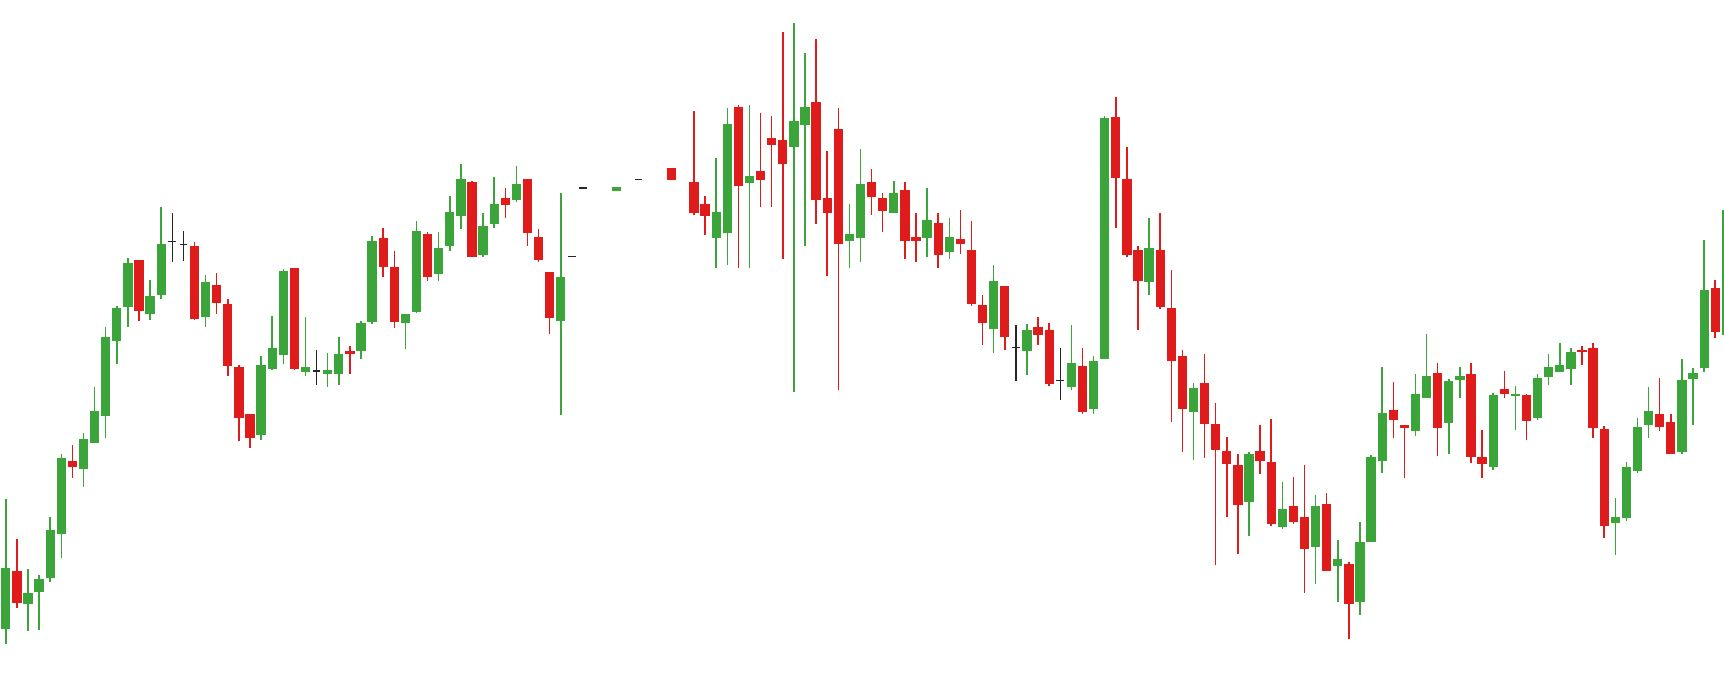buy: (1476, 399, 1633, 556)
